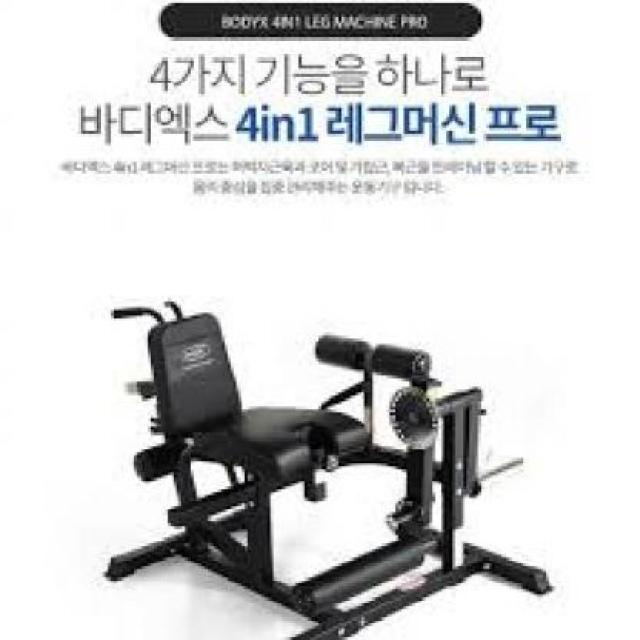leg extension: (65, 275, 568, 640)
